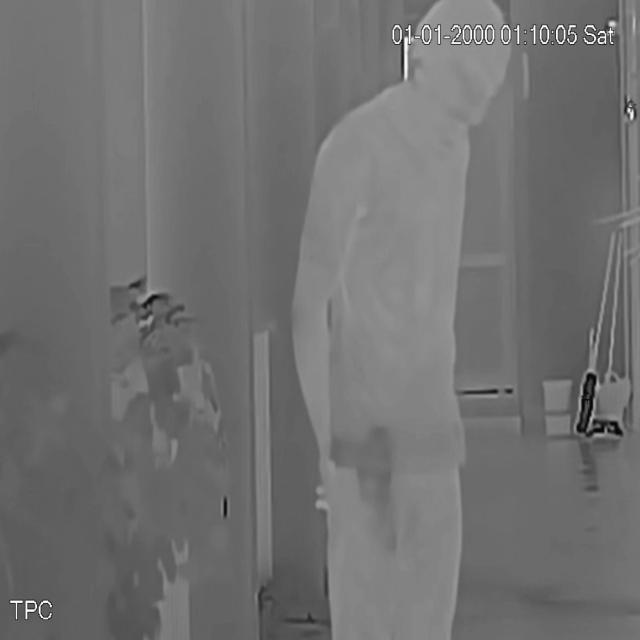Weapon: (326, 409, 424, 575)
